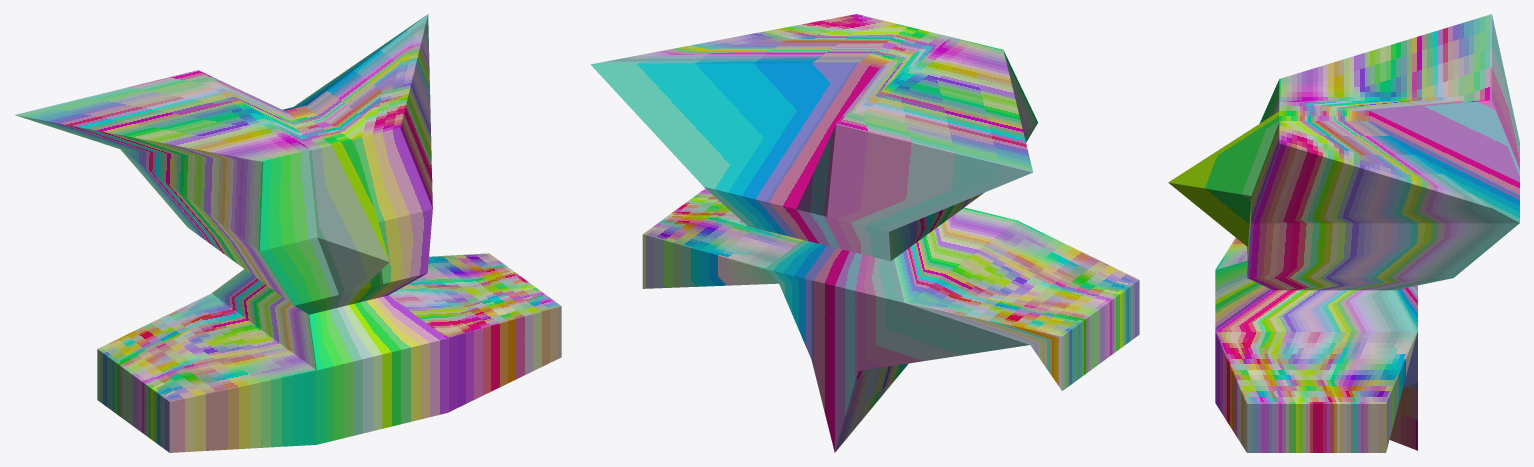
3 views of the same model, side by side, from view 1: azimuth 30°, elevation 25°; view 2: azimuth 150°, elevation 25°; view 3: azimuth 270°, elevation 25° (orthographic). The views are drawn at different scales.
Parts seen in each view (by area): view 1: Plane; view 2: Plane; view 3: Plane.
Boxes of the visible parts, x1=… form: Plane: x1=15, y1=14, x2=561, y2=452; Plane: x1=590, y1=14, x2=1139, y2=452; Plane: x1=1168, y1=14, x2=1519, y2=452.
Size of the model in its own units: 4.6 by 3.61 by 3.47.
Materials: 1 (1 with a texture image).
